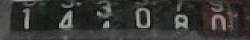digits: (200, 0, 235, 33), (51, 0, 78, 35), (169, 1, 190, 34), (94, 0, 114, 27), (135, 7, 150, 28), (22, 7, 30, 28)
